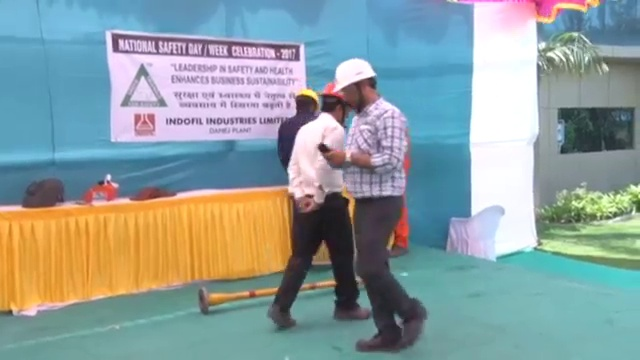helmet: (328, 57, 380, 93), (317, 81, 346, 103), (295, 87, 321, 108)
helmet_on: (329, 59, 381, 122), (318, 80, 349, 127), (294, 85, 322, 119)
person: (327, 57, 429, 353), (271, 81, 372, 331), (277, 86, 318, 170)
